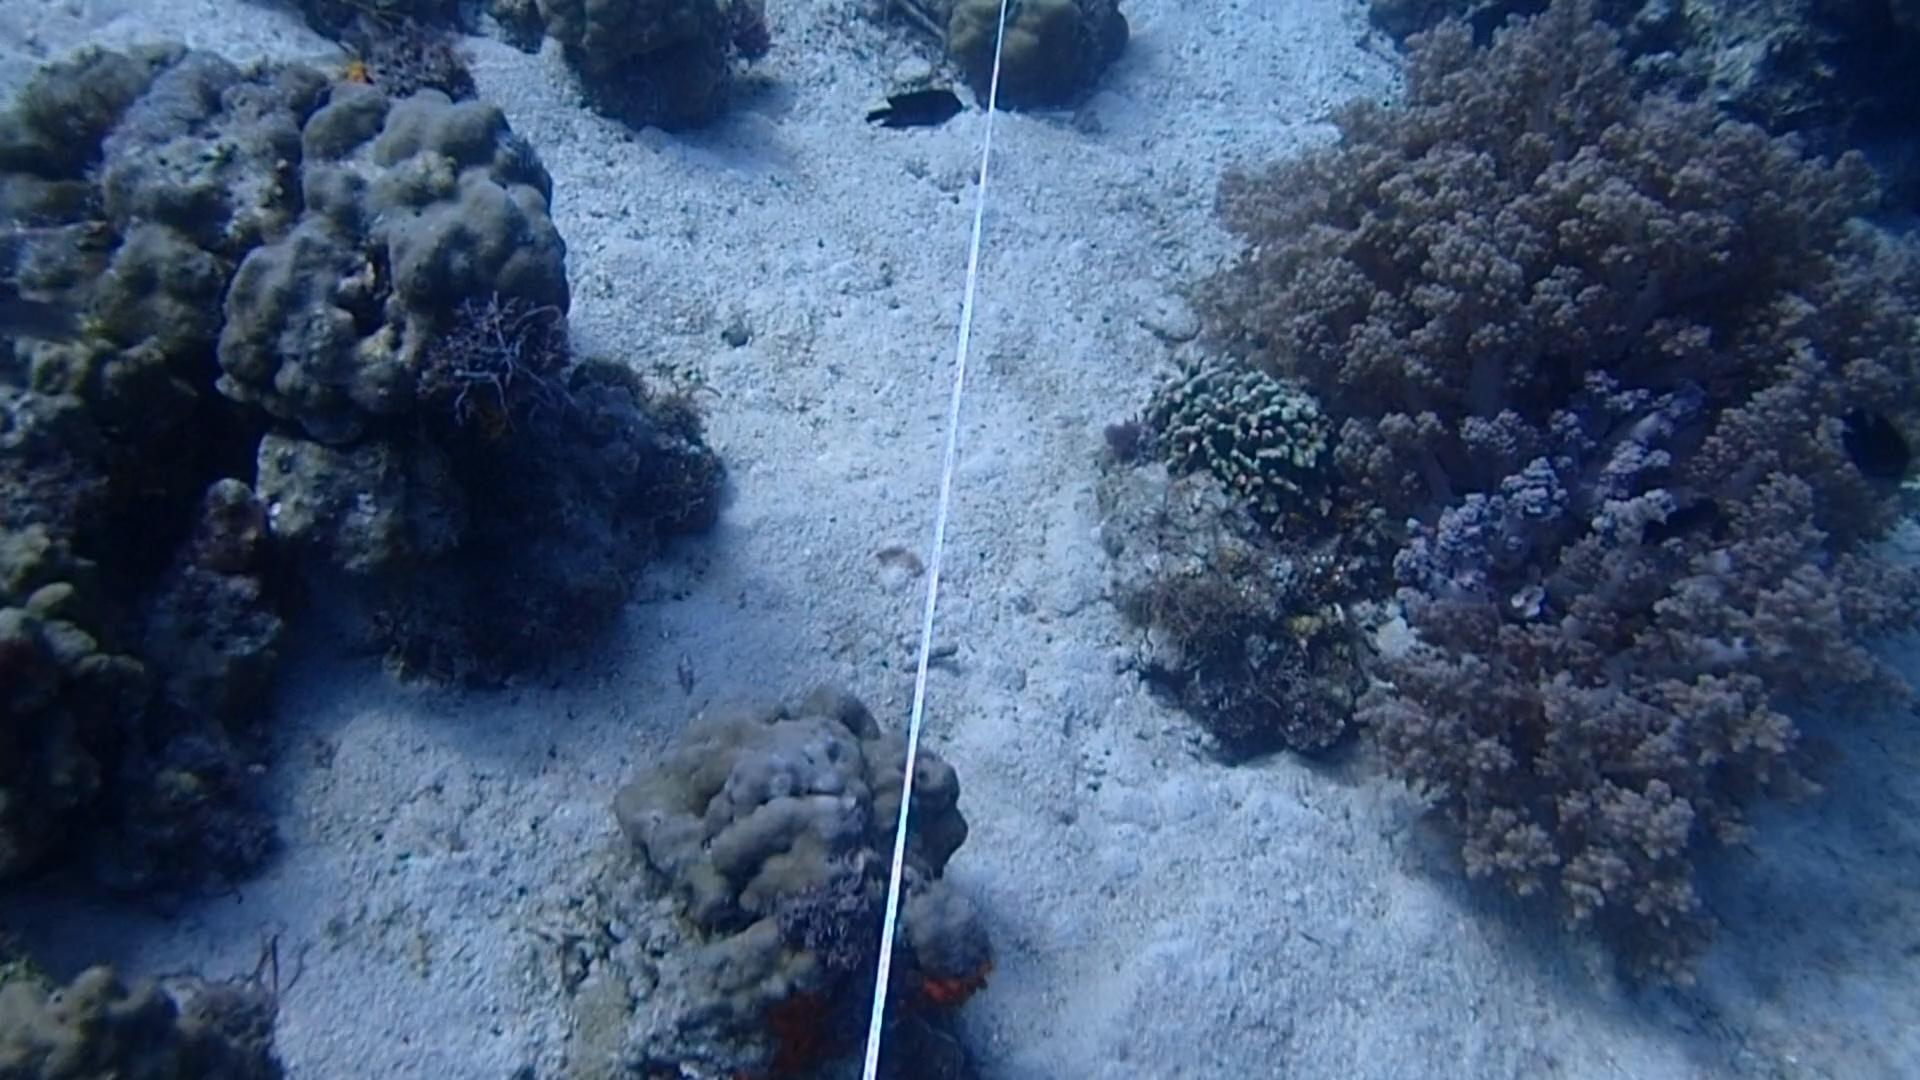Dark Fish: (1818, 397, 1917, 504), (1623, 485, 1729, 556), (857, 79, 964, 138)
